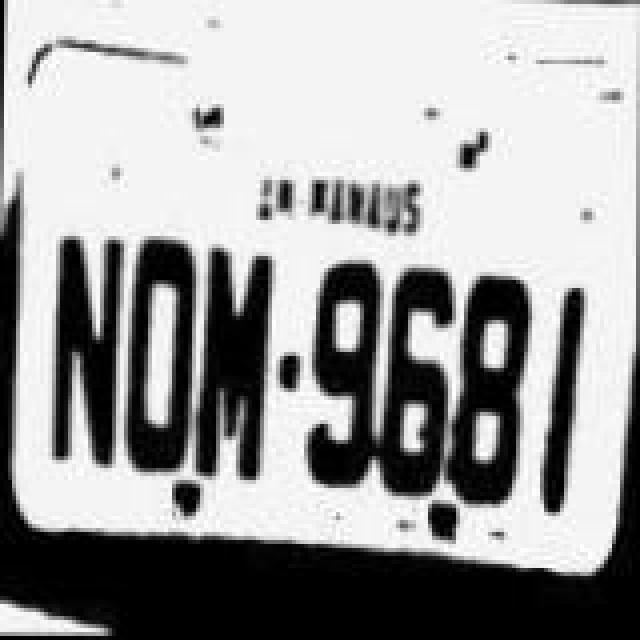1: (544, 284, 600, 520)
6: (378, 262, 454, 502)
8: (450, 268, 534, 512)
9: (304, 260, 384, 492)
M: (196, 248, 280, 488)
N: (46, 230, 126, 478)
O: (118, 234, 198, 486)
